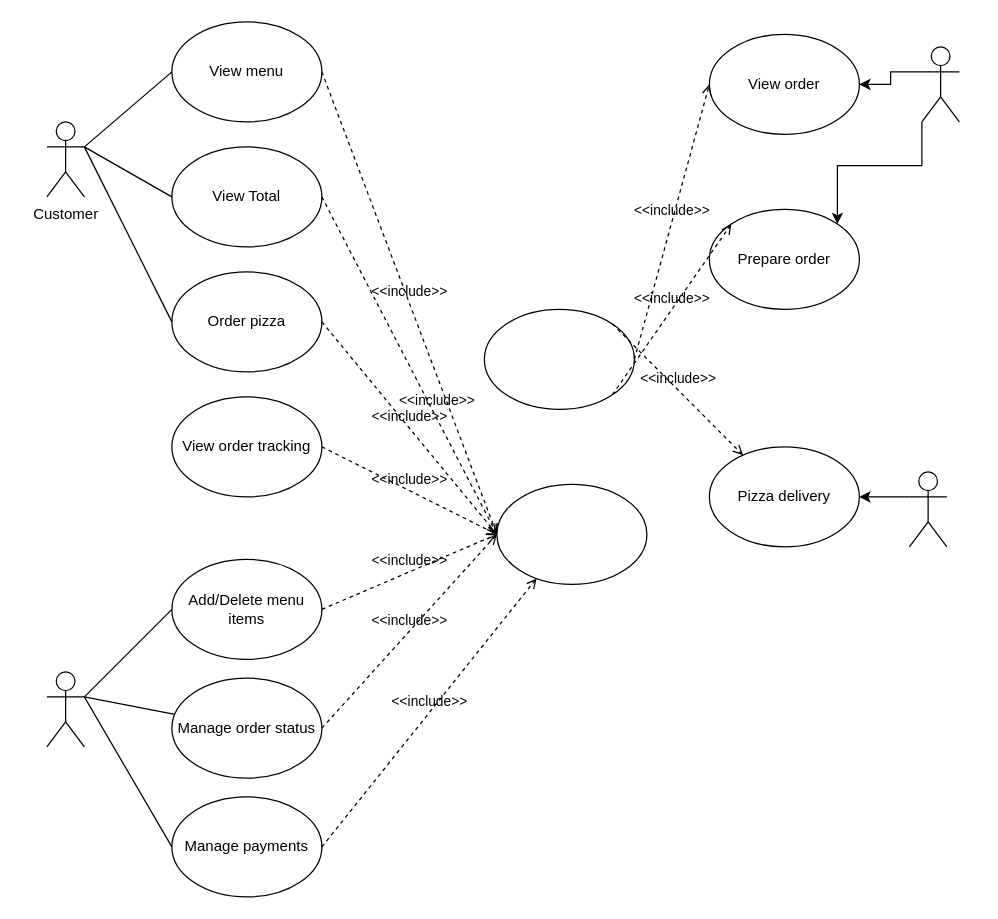
This 998x919 diagram has some shape labels left out. The shapes that lost their labels are listed below. From the top down, each one's centre as x and y in pixels, then its label:
At point 940,84: "Chef".
At point 558,358: "Recieve order".
At point 927,509: "Delivery driver".
At point 571,533: "Log in".
At point 65,709: "Administrator".
